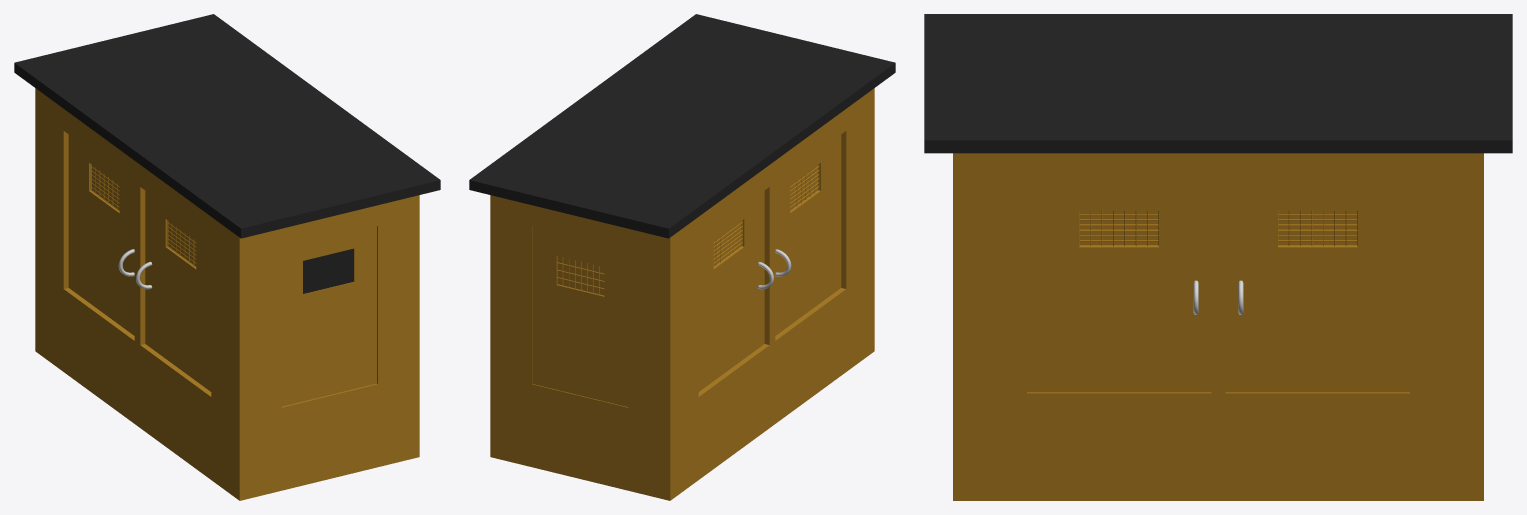
The model's file is uploads_files_809036_smpgnrtxcxc.fbx.
3 views of the same model, side by side, from view 1: azimuth 30°, elevation 25°; view 2: azimuth 150°, elevation 25°; view 3: azimuth 270°, elevation 25° (orthographic). The views are drawn at different scales.
Visible parts, largest first — view 1: Cube.001, Cube.034, Cube.033, Cube.038, Cube.035; view 2: Cube.001, Cube.034, Cube.036, Cube.035, Cube.037; view 3: Cube.001, Cube.034, Cube.035.
Boxes of the visible parts, bbox=[...] form: Cube.001: bbox=[14, 14, 440, 500]; Cube.034: bbox=[68, 135, 211, 391]; Cube.033: bbox=[281, 226, 376, 406]; Cube.038: bbox=[303, 248, 353, 293]; Cube.035: bbox=[90, 164, 196, 267]; Cube.001: bbox=[469, 14, 895, 500]; Cube.034: bbox=[698, 135, 841, 391]; Cube.036: bbox=[532, 226, 628, 406]; Cube.035: bbox=[713, 164, 819, 267]; Cube.037: bbox=[556, 256, 604, 296]; Cube.001: bbox=[924, 14, 1512, 500]; Cube.034: bbox=[1027, 188, 1409, 392]; Cube.035: bbox=[1079, 210, 1357, 246].
Bounding box in the file's own units: 482 × 652 × 948.
